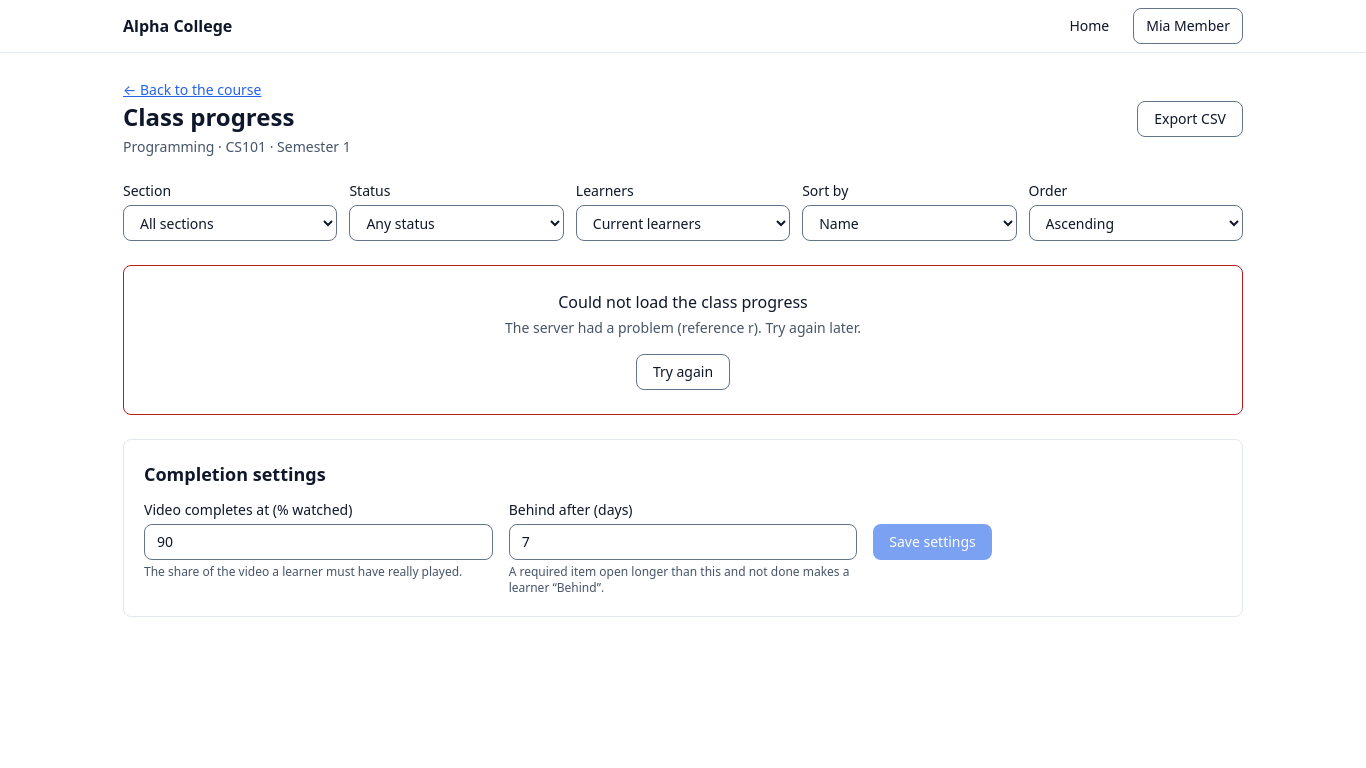
Test: the class progress page › has an empty state and an error state with a retry
The image size is (1366, 768).
Expected: the text "Could not load the class progress" is shown, left=558, top=291, right=808, bottom=313
Click the button "Try again".
click(683, 372)  # box left=636, top=354, right=730, bottom=390
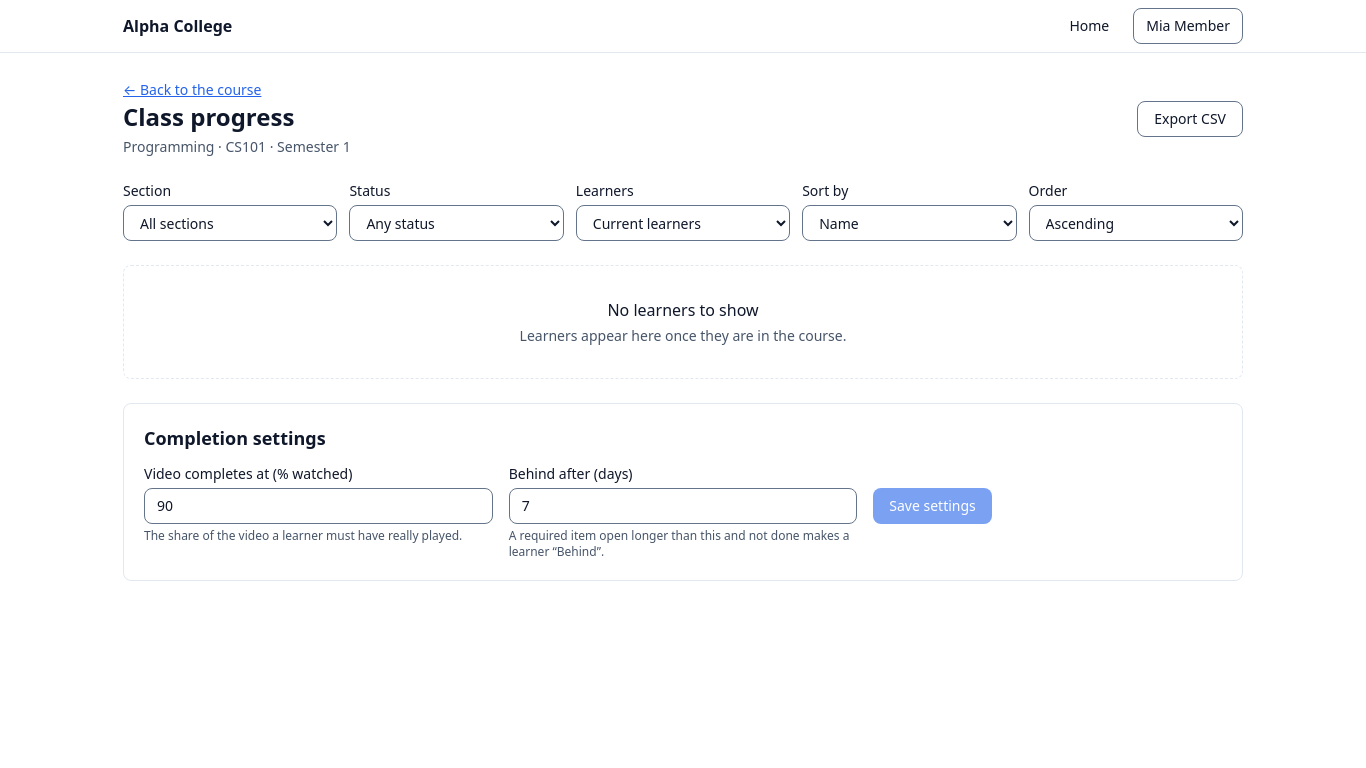
Result: the text "No learners to show" is shown at left=607, top=299, right=759, bottom=321
